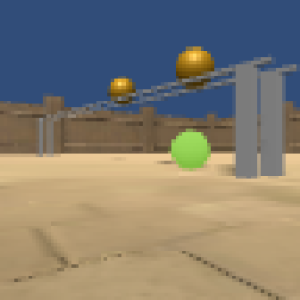goodGoal: (169, 128, 212, 170)
goodGoalMulti: (173, 43, 216, 91), (107, 74, 136, 105)
wall: (233, 64, 260, 180), (261, 70, 285, 177), (38, 117, 45, 157), (48, 118, 55, 157)
